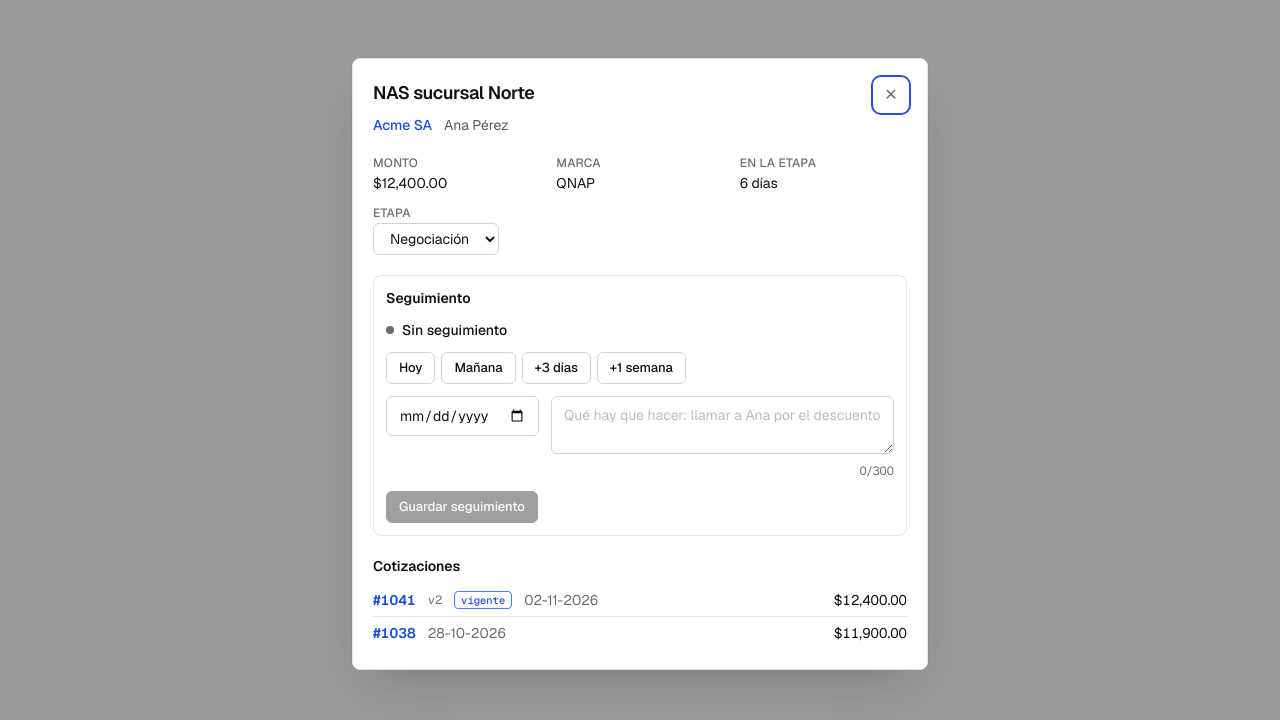
Test: OportunidadPanel › seguimiento › el atajo "Mañana" pone 2026-11-20 en el campo sin guardar
Expected: the dialog "NAS sucursal Norte" is shown, [352, 58, 928, 670]
Expected: the heading "Seguimiento" is shown, [386, 289, 471, 307]
Click the button "Mañana".
click(479, 368)  # box [442, 352, 516, 384]
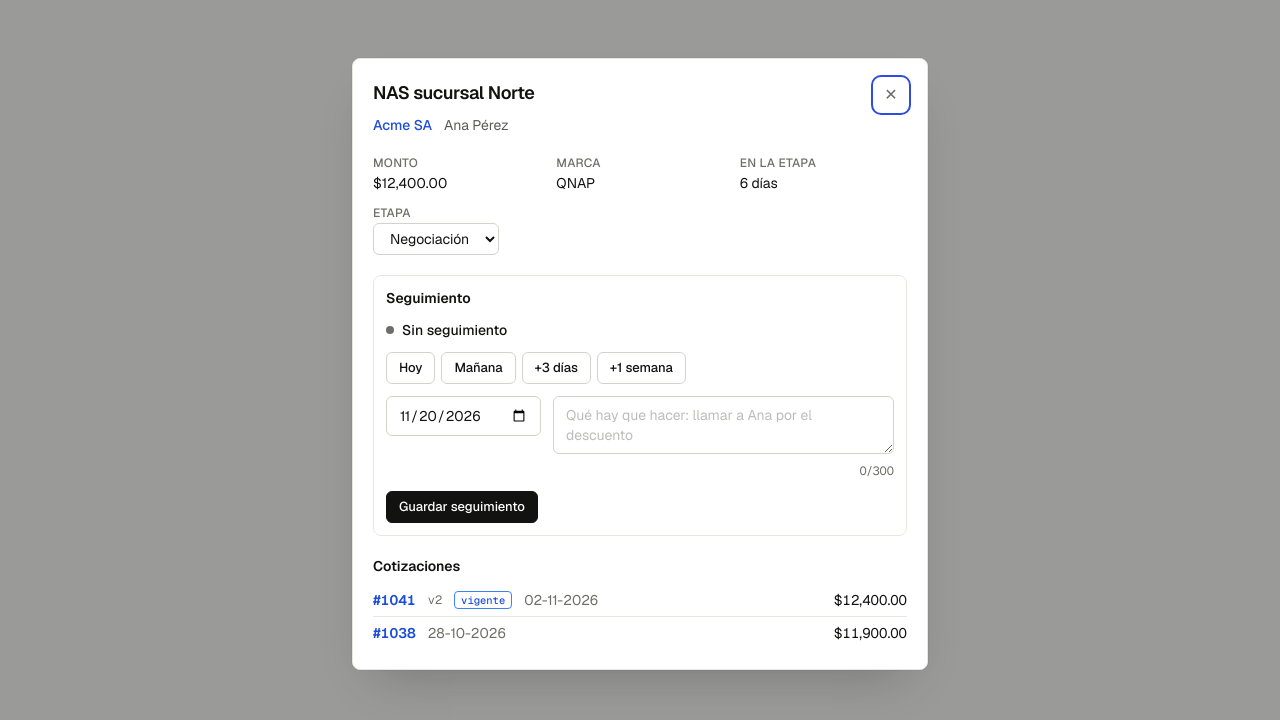
Result: the date field named "Fecha del próximo seguimiento" holds "2026-11-20" at [386, 396, 541, 436]
Result: the button "Guardar seguimiento" is enabled at [386, 491, 538, 523]
